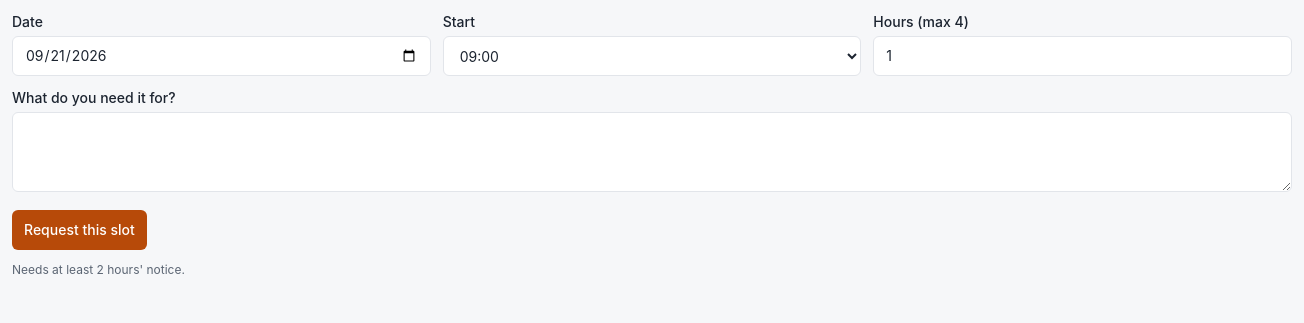
it: BookingForm › asks what the equipment is needed for
Click the button "Request this slot": (79, 230) [12,210,147,250]
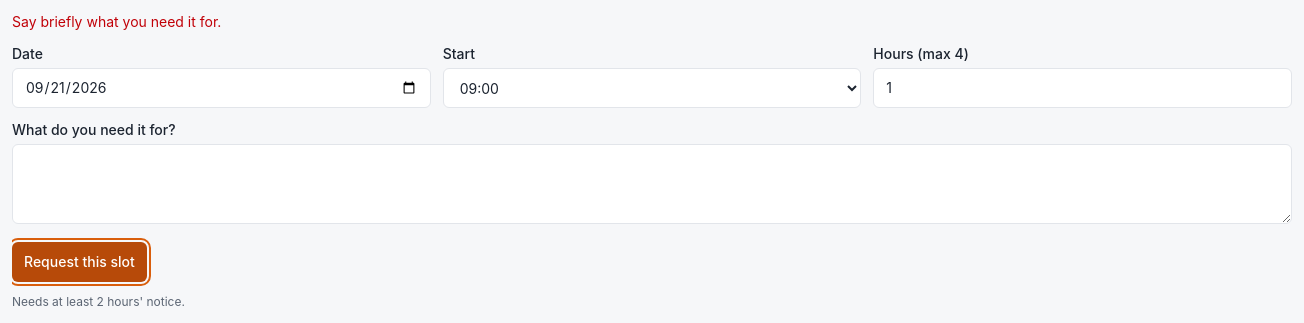
Expected: the text "Say briefly what you need it for." is shown, [12,13,221,30]
